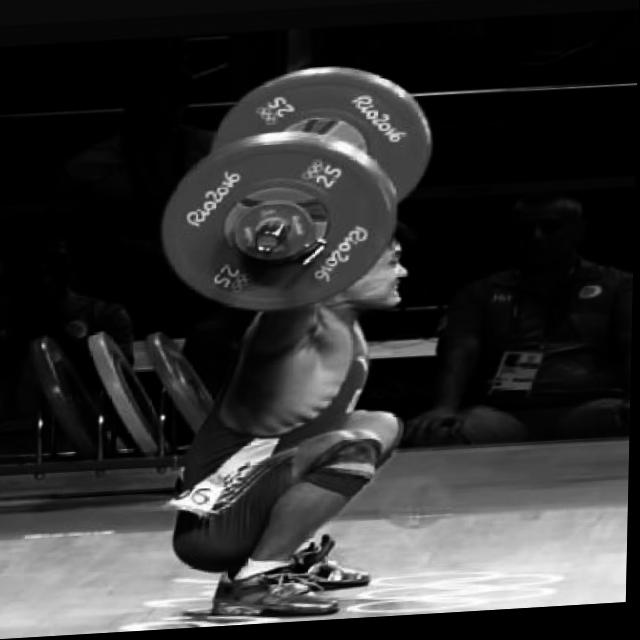barbell: (153, 133, 401, 326)
